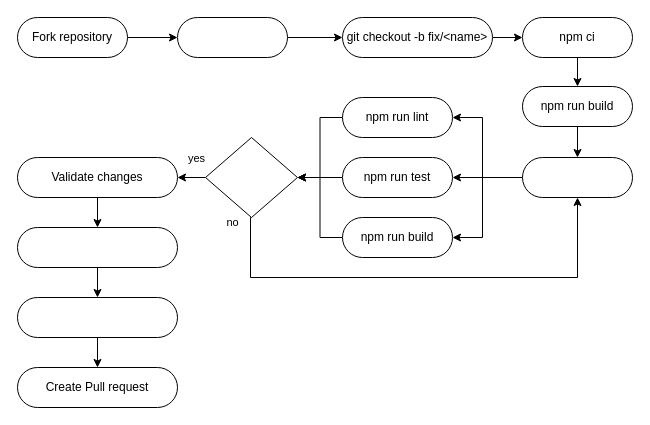
The diagram is 650 pixels wide and 425 high, and some of its shapes have lost their labels. The box of each missing label's shape, as (x1, y1, x2, y2) in pixels:
executed successfully: (204, 136, 298, 218)
git clone <link>: (176, 16, 288, 58)
git commit -m "fix: ...": (16, 226, 178, 268)
git push origin fix/<name>: (16, 296, 178, 338)
make changes: (522, 156, 632, 198)
